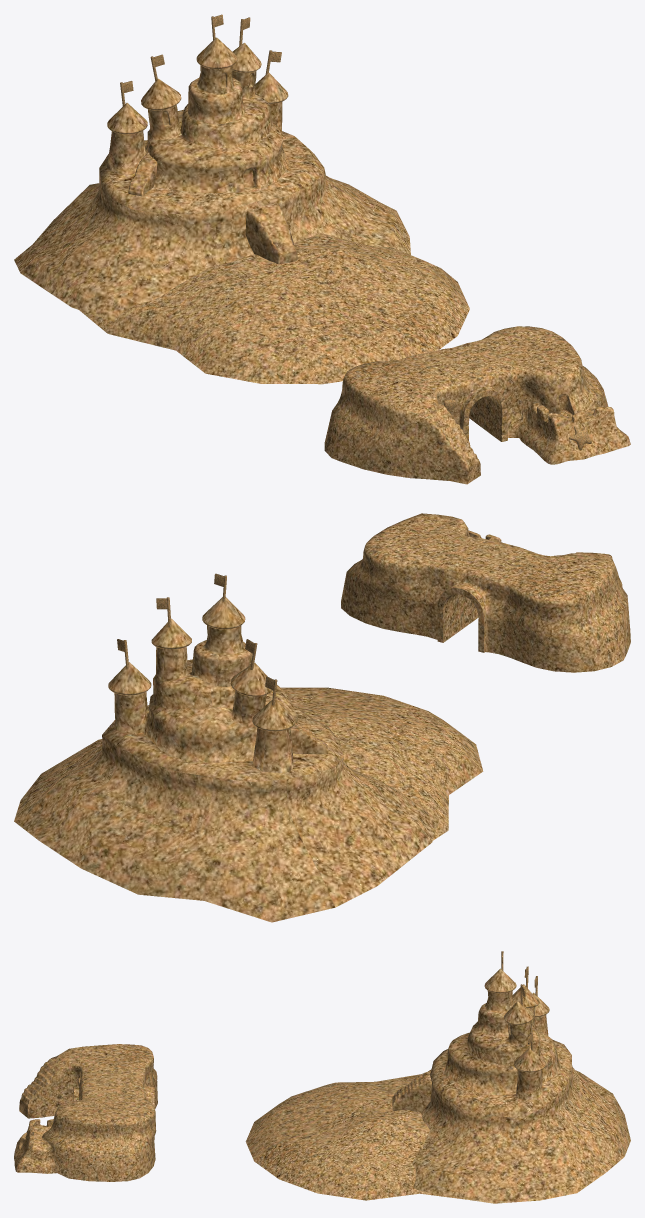
The model's file is Sandcastle_Model_v2.fbx.
3 views of the same model, one above another, from view 1: azimuth 30°, elevation 25°; view 2: azimuth 150°, elevation 25°; view 3: azimuth 270°, elevation 25° (orthographic). The views are drawn at different scales.
Visible parts, largest first — view 1: sandcatle_base, sand_mound, sandcastle_gate_platform, sandcastle_stairs_01, sandcastle_stairs_02; view 2: sandcatle_base, sandcastle_gate_platform, sand_mound, sandcastle_stairs_02; view 3: sandcatle_base, sandcastle_gate_platform, sand_mound, sandcastle_stairs_01.
Part boxes in pixels (bbox=[...]): sandcatle_base: bbox=[14, 37, 410, 321]; sand_mound: bbox=[79, 233, 469, 384]; sandcastle_gate_platform: bbox=[324, 326, 630, 484]; sandcastle_stairs_01: bbox=[245, 202, 297, 264]; sandcastle_stairs_02: bbox=[128, 151, 157, 196]; sandcatle_base: bbox=[14, 597, 438, 922]; sandcastle_gate_platform: bbox=[341, 513, 630, 672]; sand_mound: bbox=[281, 687, 483, 840]; sandcastle_stairs_02: bbox=[290, 722, 328, 754]; sandcatle_base: bbox=[412, 968, 630, 1203]; sandcastle_gate_platform: bbox=[14, 1044, 157, 1181]; sand_mound: bbox=[245, 1074, 465, 1200]; sandcastle_stairs_01: bbox=[392, 1071, 431, 1112].
Bounding box in the file's own units: 8227 × 5706 × 16154.
Materials: 2 (2 with a texture image).
